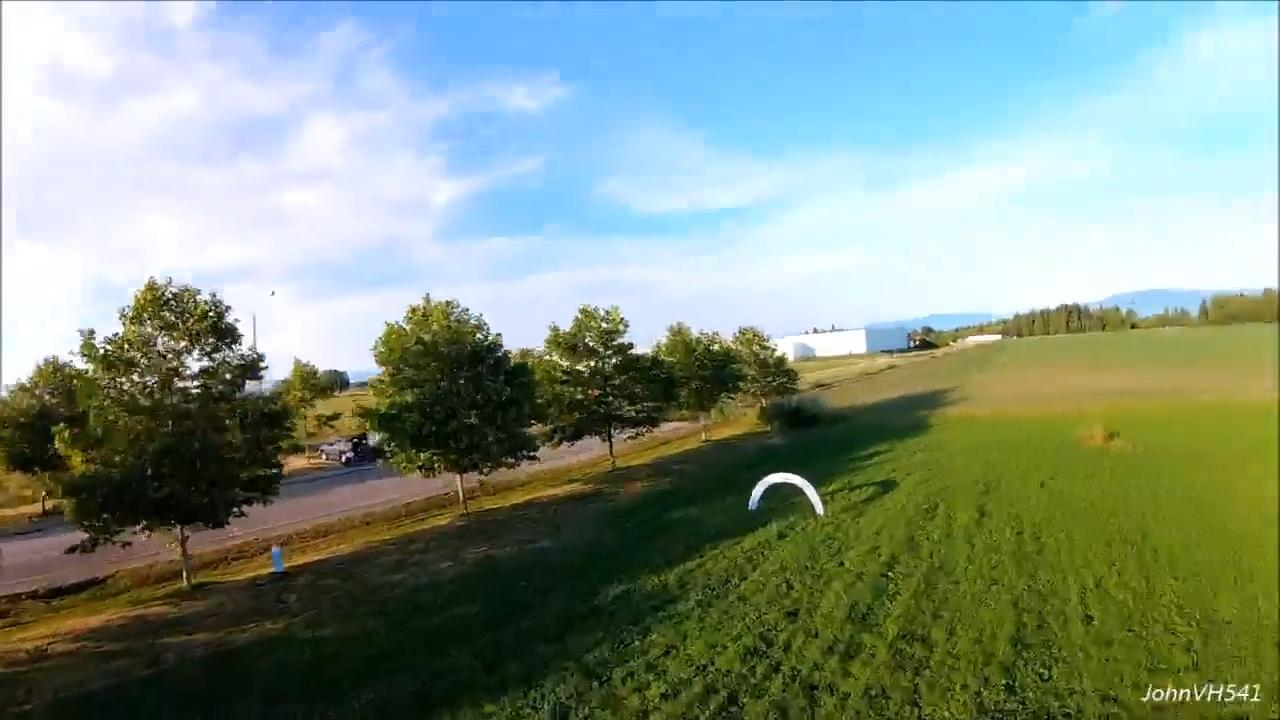gate: (749, 473, 824, 519)
